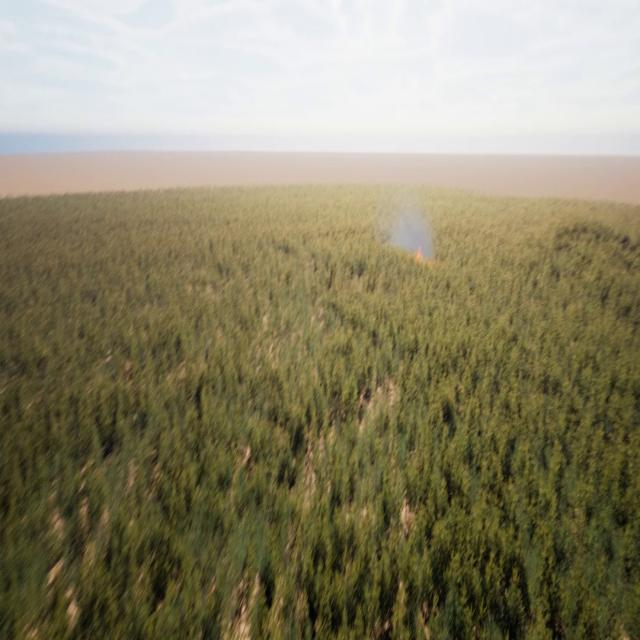fire: (414, 241, 426, 264)
smoke: (390, 198, 438, 264)
